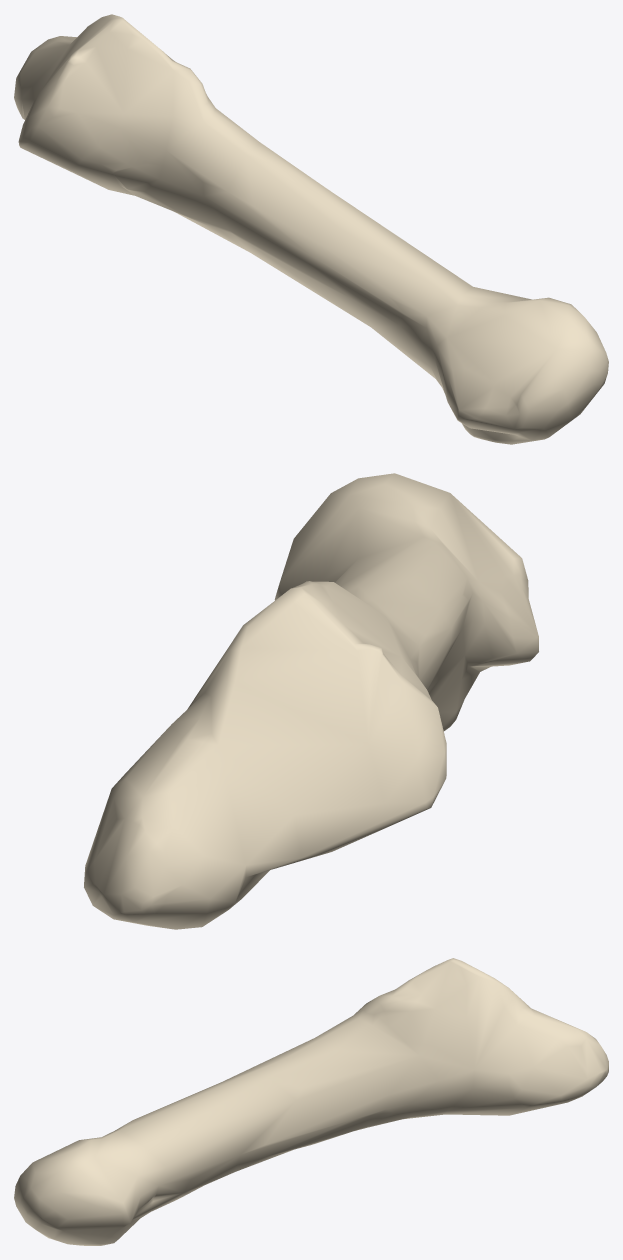
The model's file is fifth-metatarsal-bone-l.glb.
3 renders of one model, top to bottom at view 1: azimuth 30°, elevation 25°; view 2: azimuth 150°, elevation 25°; view 3: azimuth 270°, elevation 25°, orthographic. The views are drawn at different scales.
Visible parts, largest first — view 1: Fifth metatarsal bone.l; view 2: Fifth metatarsal bone.l; view 3: Fifth metatarsal bone.l.
Boxes of the visible parts, left/top/right/bottom form: Fifth metatarsal bone.l: left=14, top=14, right=608, bottom=444; Fifth metatarsal bone.l: left=84, top=473, right=538, bottom=929; Fifth metatarsal bone.l: left=14, top=958, right=608, bottom=1245.
Size of the model in its own units: 0.037 by 0.0312 by 0.0737.
